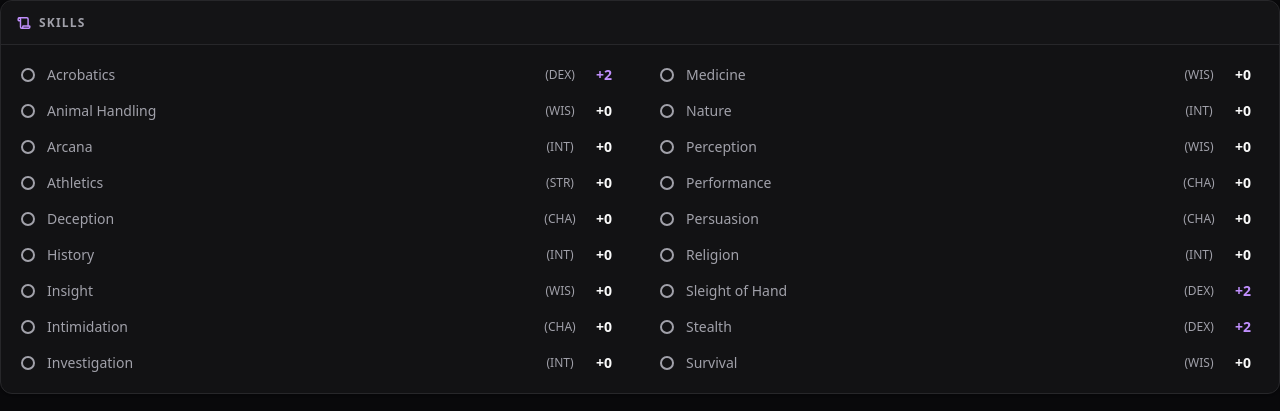
Test case: SkillsSection › o atributo da perícia explica o que ela cobre, ao tocar
Click the button with aria-label "What is Acrobatics?" at (560, 75), box [540,67,580,83]
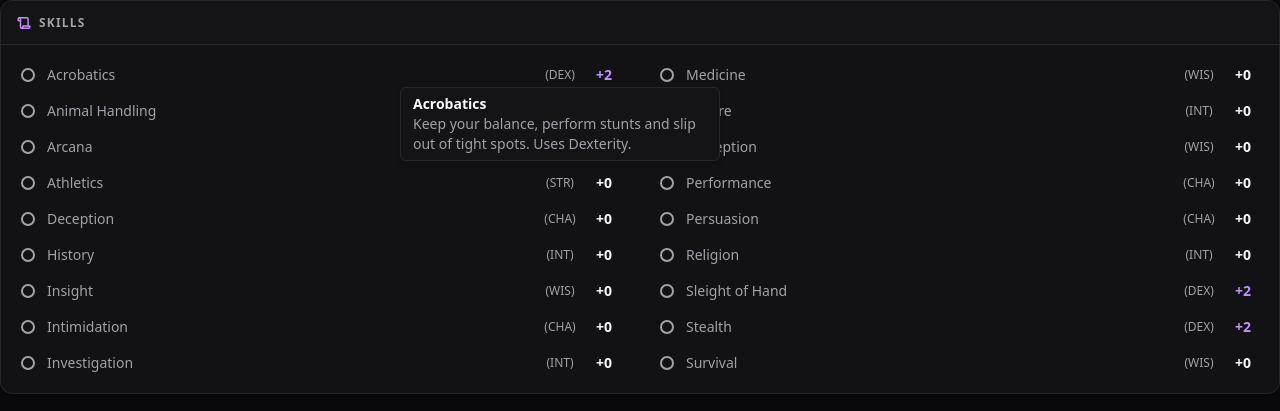
expect the tooltip shows "Keep your balance": met, box [413,114,696,153]
expect the tooltip shows "Uses Dexterity.": met, box [413,114,696,153]
